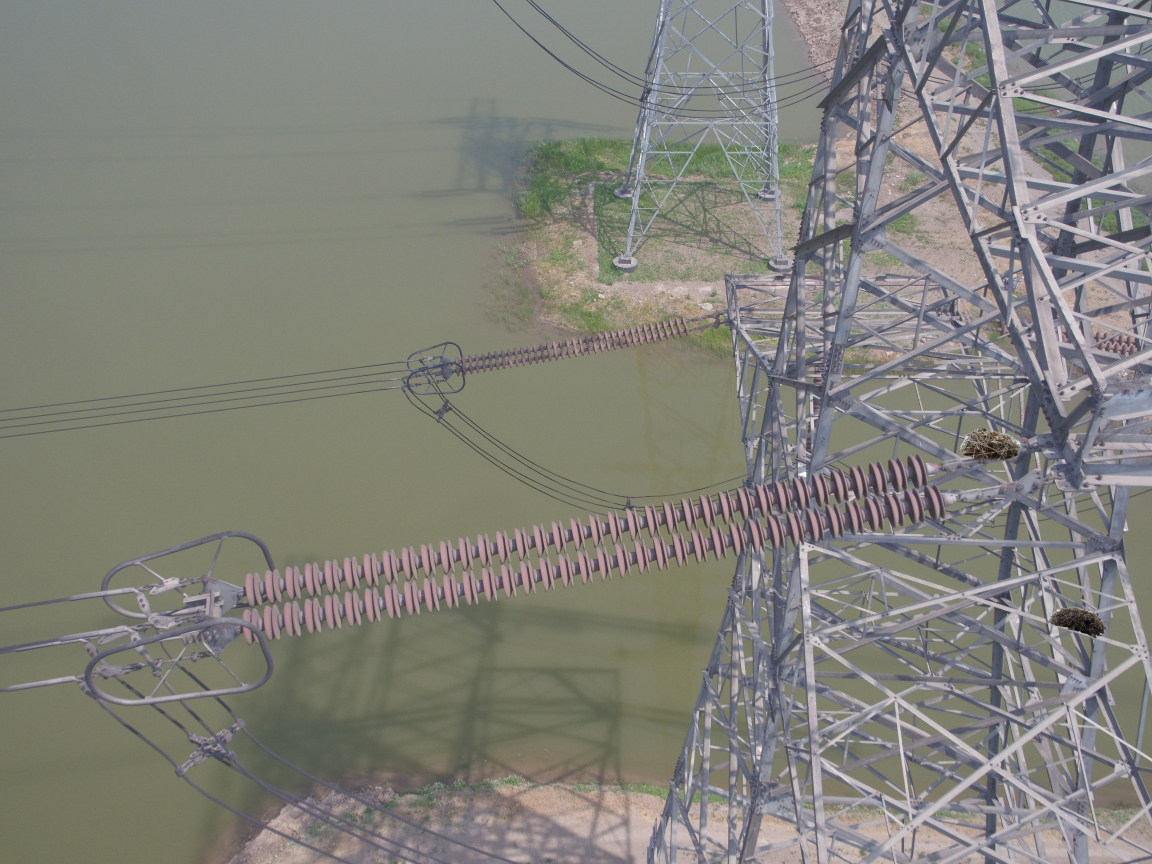nest: (957, 420, 1024, 465), (1045, 599, 1108, 643)
